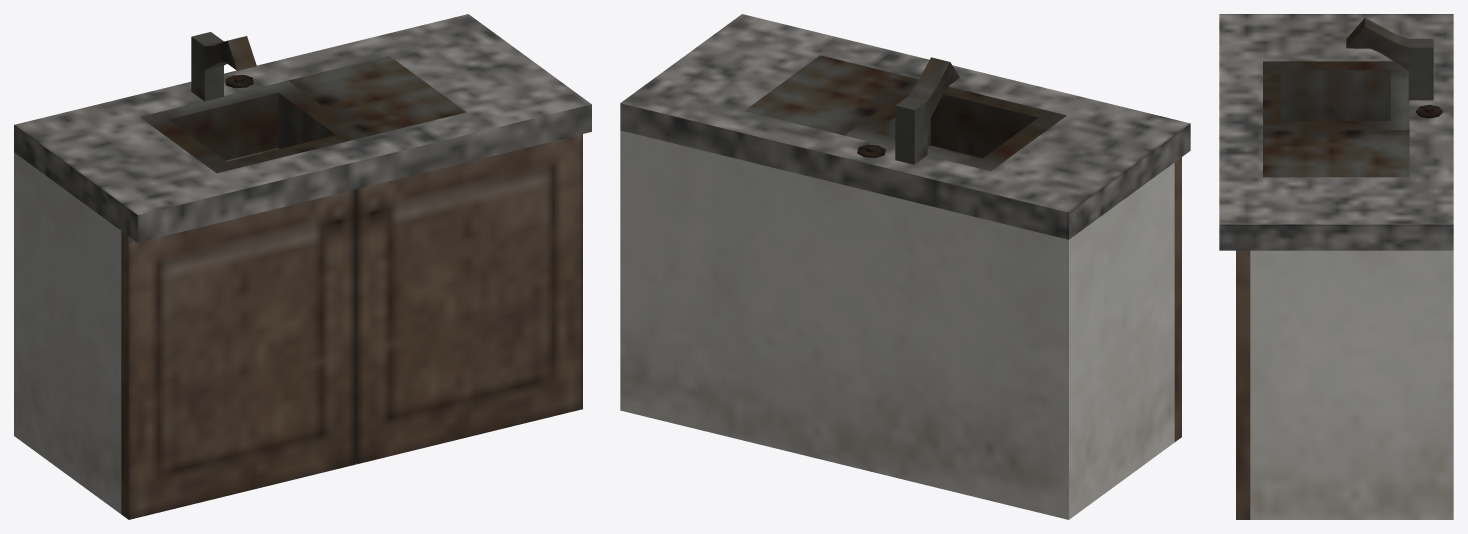
Rendered from SM_EC_Sink_Complete_1.fbx.
The picture shows the model from 3 angles, left to right: view 1: azimuth 30°, elevation 25°; view 2: azimuth 150°, elevation 25°; view 3: azimuth 270°, elevation 25°; orthographic projection. The views are drawn at different scales.
Visible parts, largest first — view 1: SM_EC_Sink_Complete_1, SM_EC_CupboardDoor_7.007, SM_EC_CupboardDoor_7.008; view 2: SM_EC_Sink_Complete_1, SM_EC_CupboardDoor_7.007; view 3: SM_EC_Sink_Complete_1, SM_EC_CupboardDoor_7.008, SM_EC_Sink_Plug_1.
Boxes of the visible parts, left/top/right/bottom form: SM_EC_Sink_Complete_1: left=14, top=14, right=591, bottom=513; SM_EC_CupboardDoor_7.007: left=121, top=189, right=355, bottom=519; SM_EC_CupboardDoor_7.008: left=355, top=134, right=582, bottom=464; SM_EC_Sink_Complete_1: left=620, top=14, right=1190, bottom=519; SM_EC_CupboardDoor_7.007: left=1174, top=157, right=1181, bottom=441; SM_EC_Sink_Complete_1: left=1219, top=14, right=1453, bottom=519; SM_EC_CupboardDoor_7.008: left=1236, top=250, right=1250, bottom=519; SM_EC_Sink_Plug_1: left=1416, top=105, right=1442, bottom=118.
Size of the model in its own units: 1.73 by 0.8121 by 1.41.
